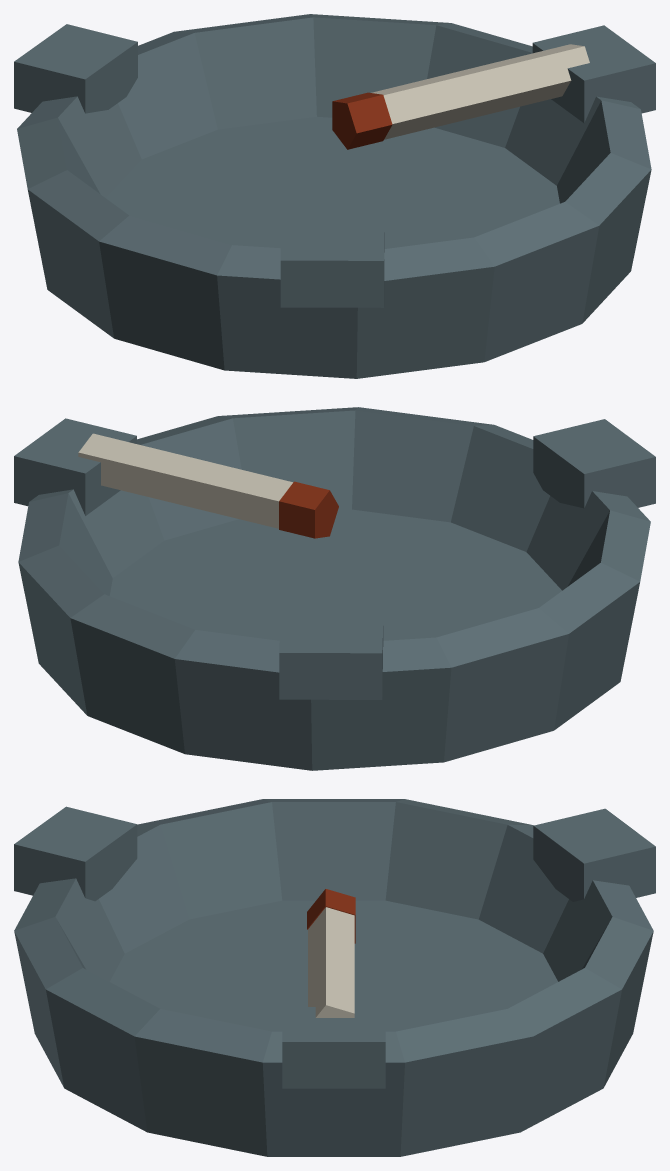
The model's file is asbak.glb.
3 views of the same model, one above another, from view 1: azimuth 30°, elevation 25°; view 2: azimuth 150°, elevation 25°; view 3: azimuth 270°, elevation 25° (orthographic).
Parts seen in each view (by area): view 1: Ashtray; view 2: Ashtray; view 3: Ashtray.
Part boxes in pixels (left/top/right/bottom): Ashtray: left=14, top=14, right=655, bottom=378; Ashtray: left=14, top=407, right=655, bottom=770; Ashtray: left=14, top=799, right=655, bottom=1156.
Bounding box in the file's own units: 0.1264 × 0.0319 × 0.1245.
